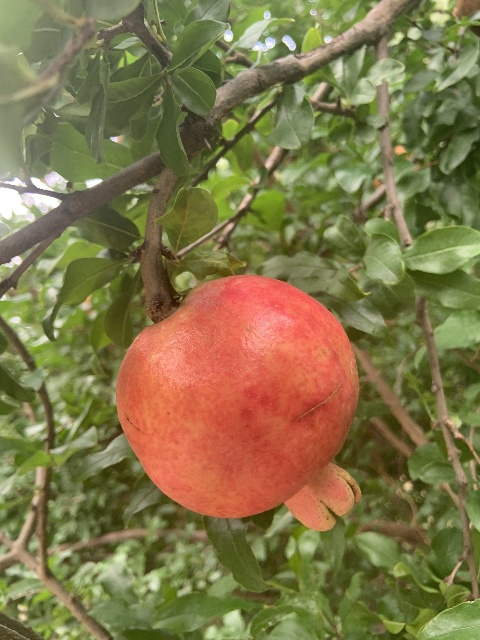ripe: (115, 275, 361, 531)
